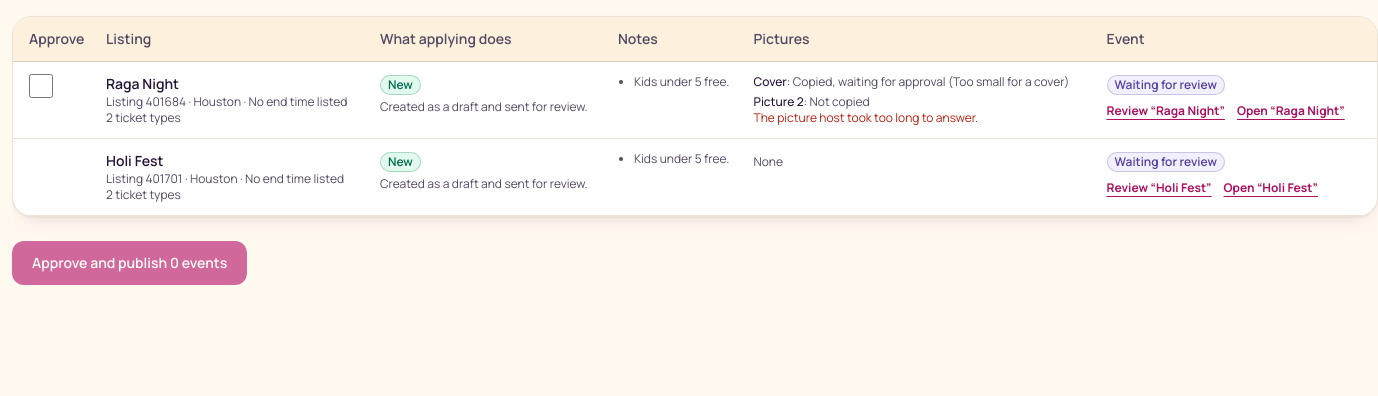
Test: an applied plan › offers approval only for this run’s events, and reports each result politely
Step 1. Click the checkbox named "Approve “Raga Night”" → click(41, 86), box [29,74,53,98]
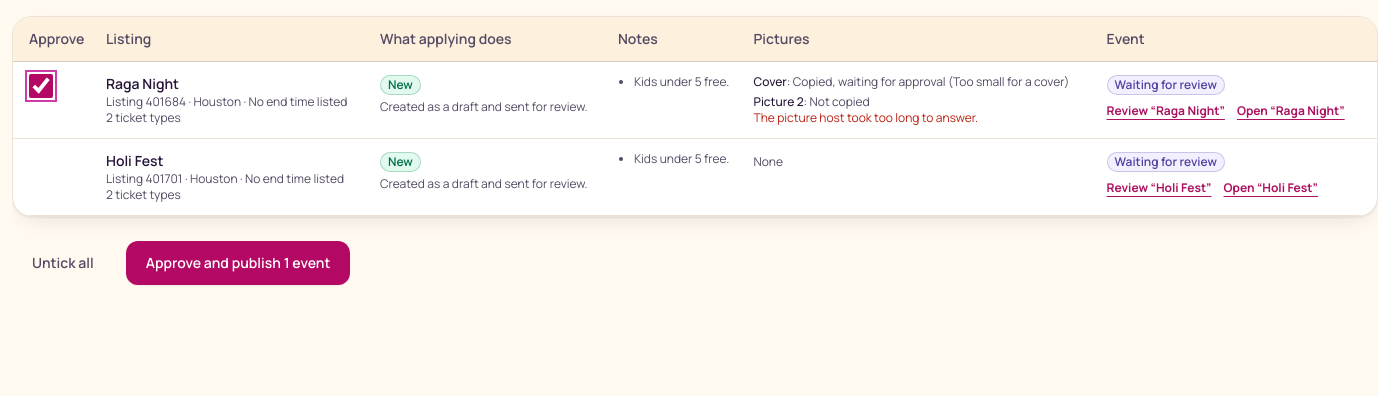
Step 2. Click the button "Approve and publish 1 event" → click(238, 263), box [126,241,350,285]
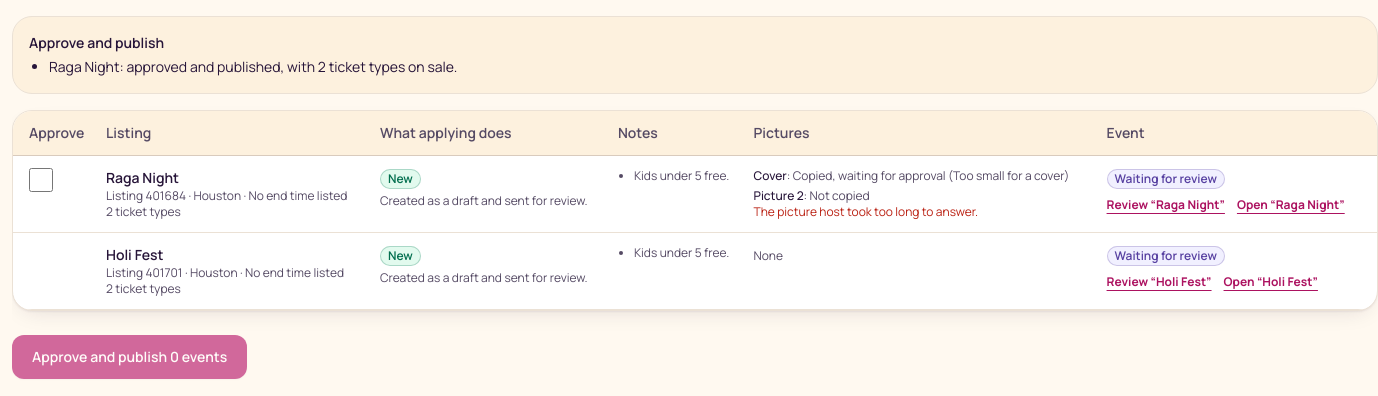
expect the list item "Raga Night: approved and published, with 2 ticket types on sale." is shown: met, box [49,57,457,76]
